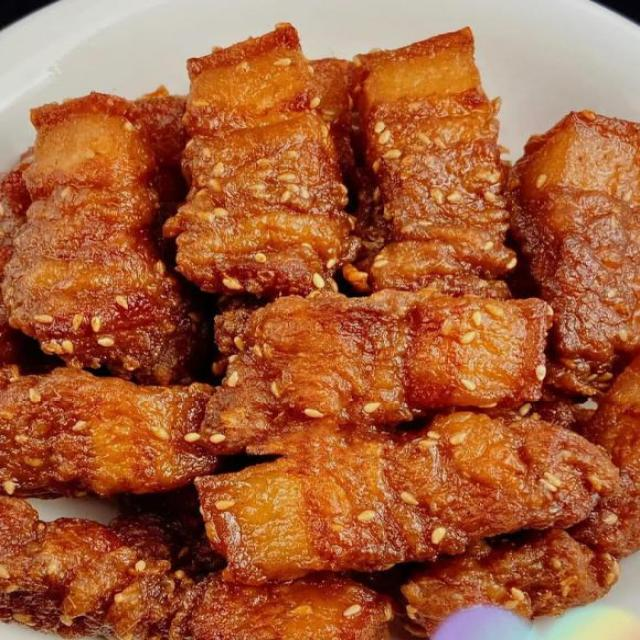thit chien: (195, 413, 616, 581), (402, 352, 639, 637), (200, 290, 548, 453), (0, 496, 394, 639), (3, 94, 199, 380), (162, 25, 359, 293), (360, 30, 515, 286), (511, 111, 639, 394), (0, 368, 216, 496)
